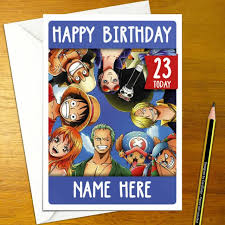chopper: (114, 130, 162, 169)
luffy: (55, 86, 101, 131)
